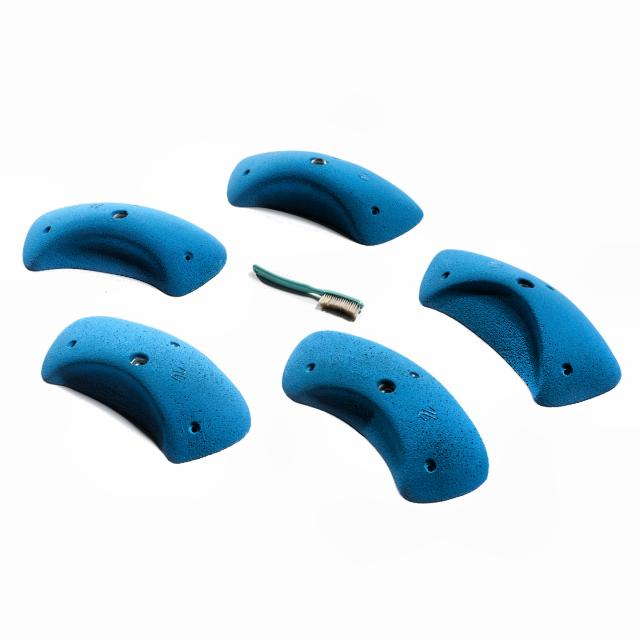Hold: (282, 331, 494, 498), (423, 245, 621, 407), (35, 318, 255, 460), (22, 202, 231, 296), (228, 148, 419, 249)
